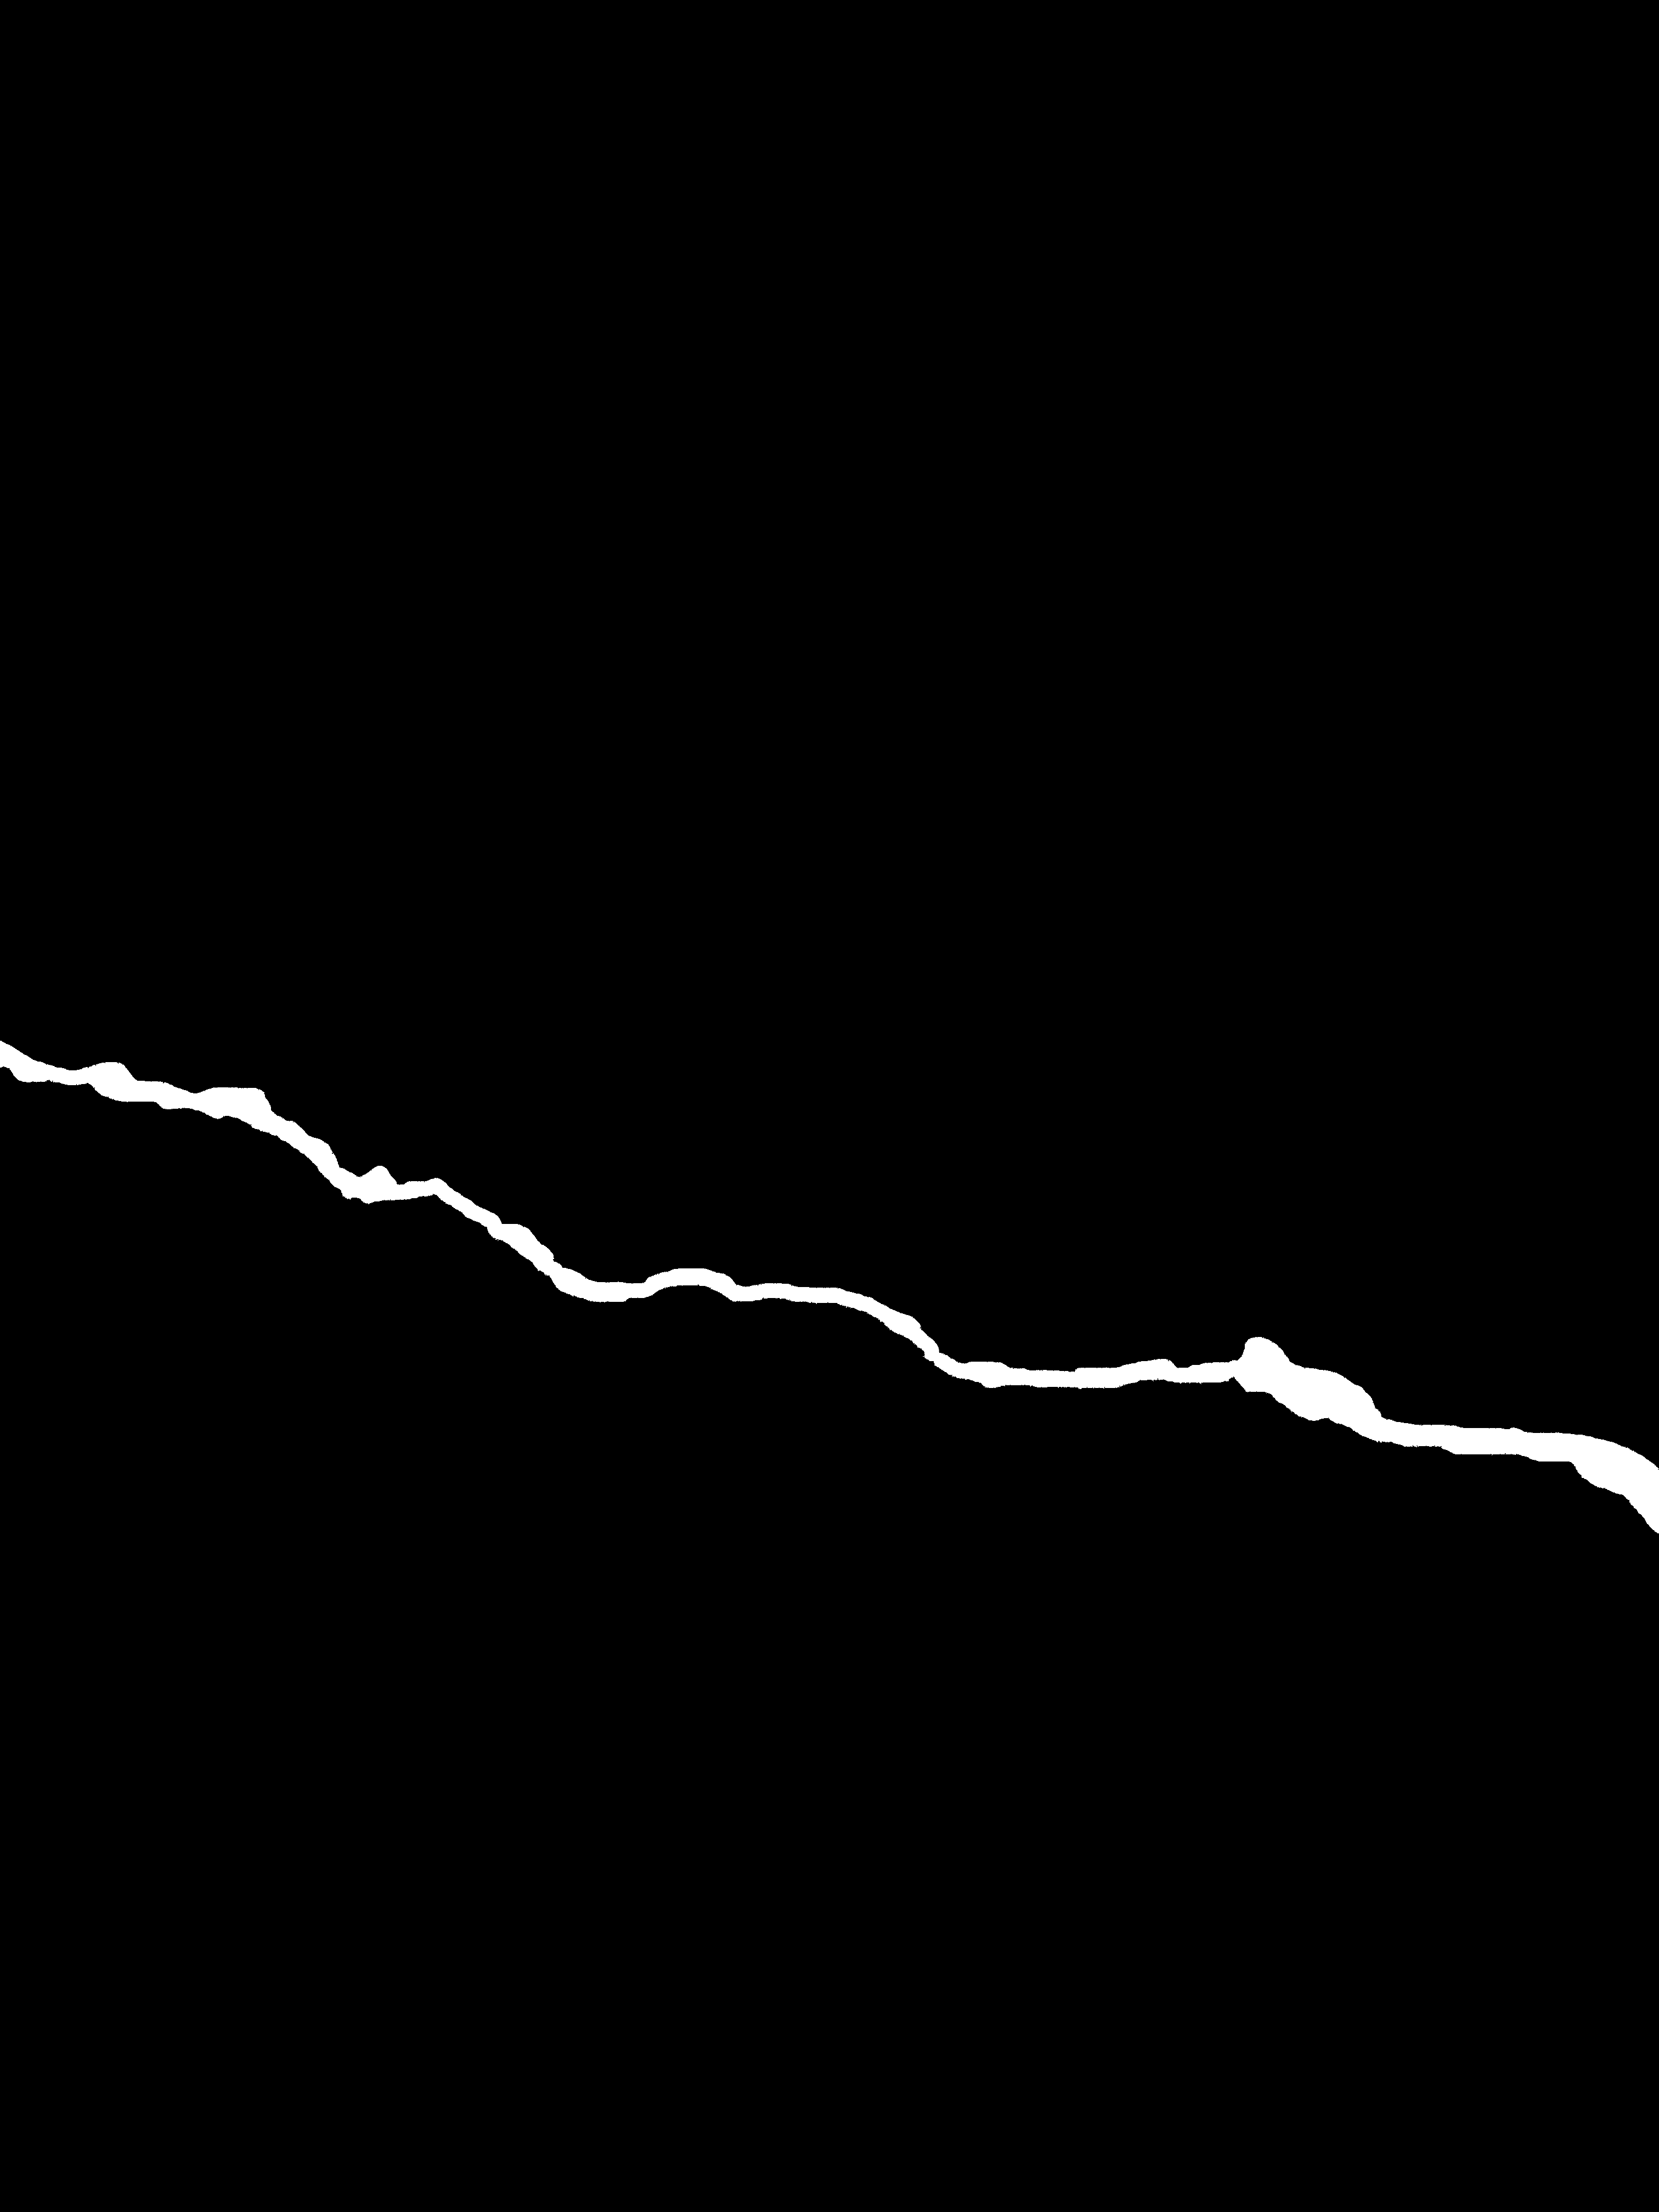Crack: (0, 1008, 1659, 1554)
